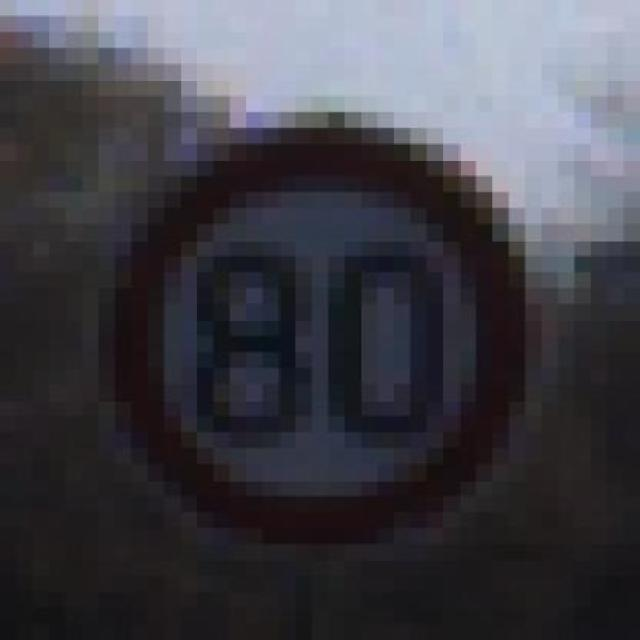forb_speed_over_80: (113, 138, 532, 539)
